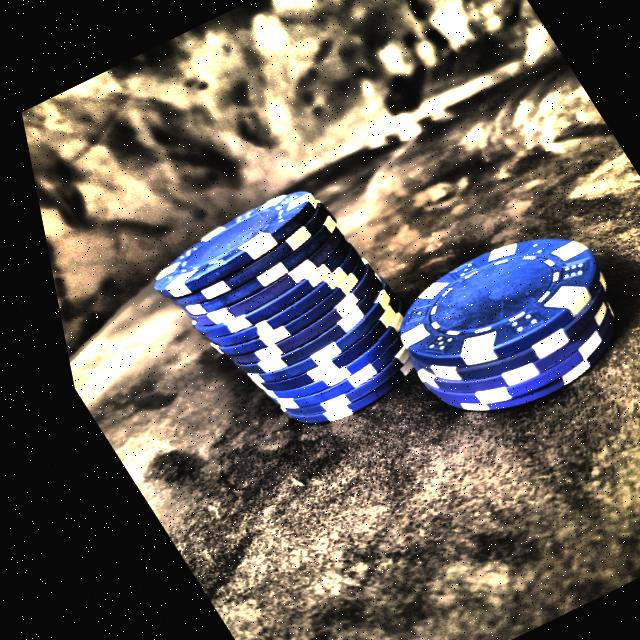Chip: (101, 158, 457, 468), (326, 199, 640, 459)
